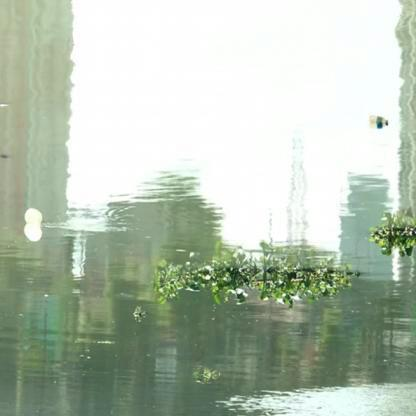Plastic: (19, 219, 46, 248), (367, 116, 392, 134)
